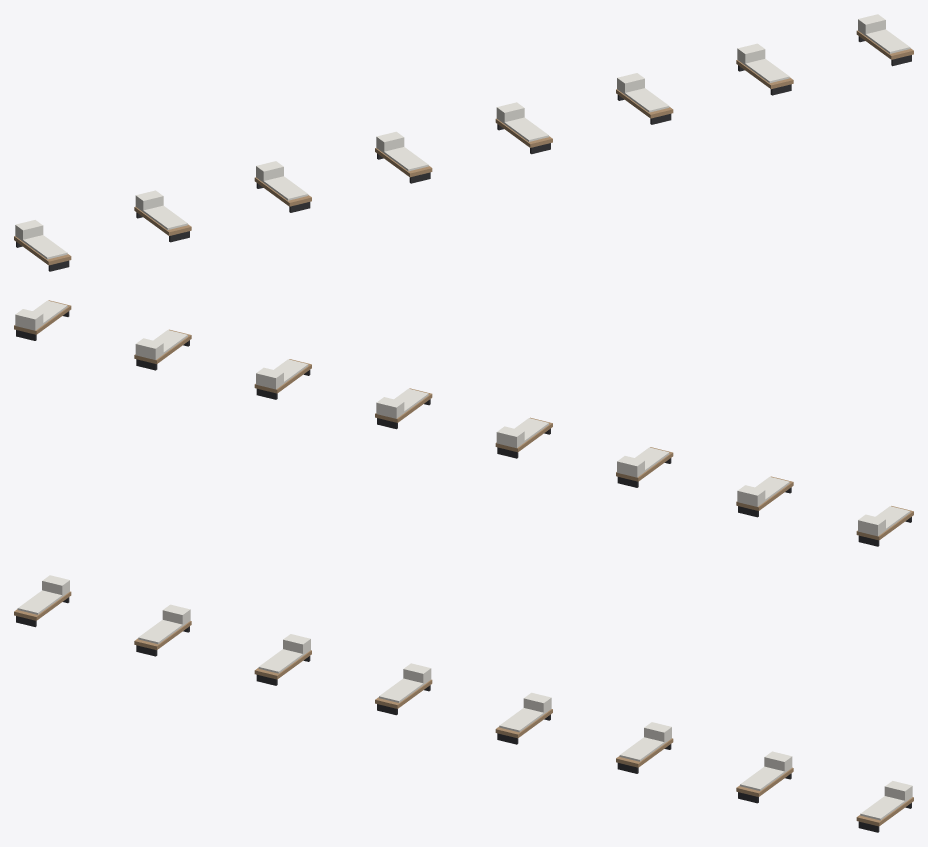
The model's file is E4-7_hotel_deck.fbx.
3 renders of one model, top to bottom at view 1: azimuth 30°, elevation 25°; view 2: azimuth 150°, elevation 25°; view 3: azimuth 330°, elevation 25°, orthographic.
Visible parts, largest first — view 1: E4-7_hotel_deck; view 2: E4-7_hotel_deck; view 3: E4-7_hotel_deck.
Part boxes in pixels (<box>): E4-7_hotel_deck: <box>14,14,913,271</box>; E4-7_hotel_deck: <box>14,300,913,546</box>; E4-7_hotel_deck: <box>14,575,913,832</box>.
Size of the model in its own units: 28.75 by 0.7 by 2.
